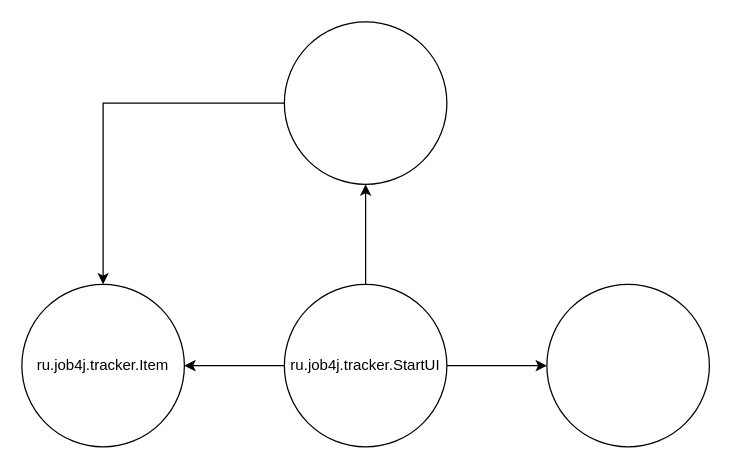
The diagram is 731 pixels wide and 469 high, and some of its shapes have lost their labels. The shapes that lost their labels are listed below. From the top down, each one's box as (x1, y1, x2, y2) in pixels, then its label:
(283, 21, 447, 184): ru.job4j.tracker.Tracker
(546, 283, 709, 447): java.util.Scanner
